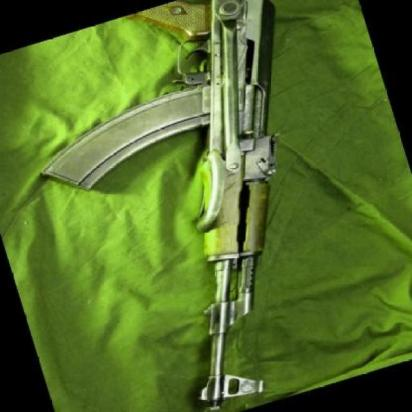Gun: (0, 0, 401, 412)
